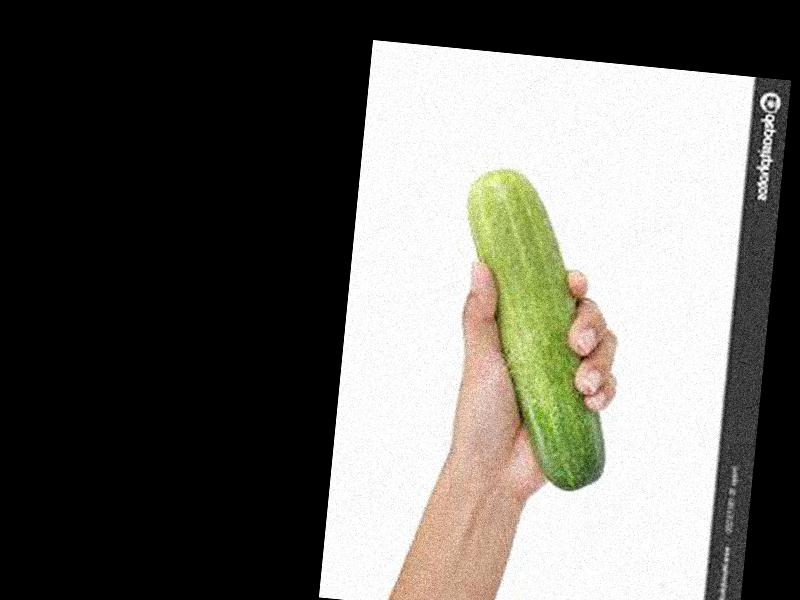Cucumber: (438, 167, 629, 494)
